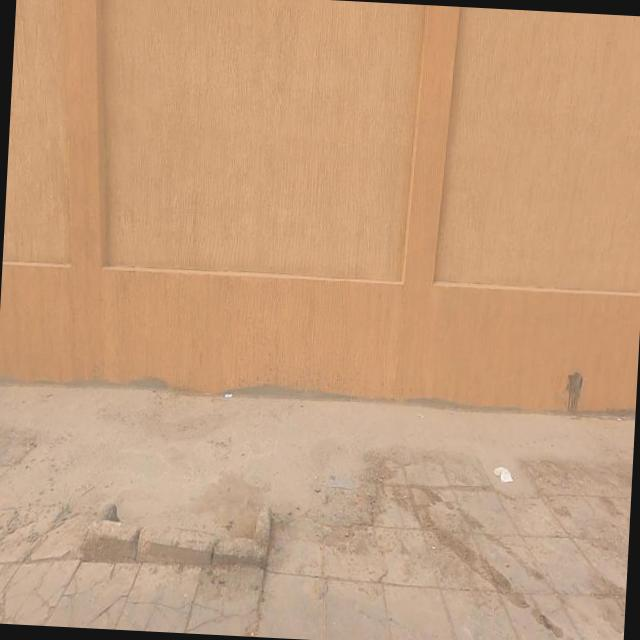debris: (456, 422, 537, 521)
